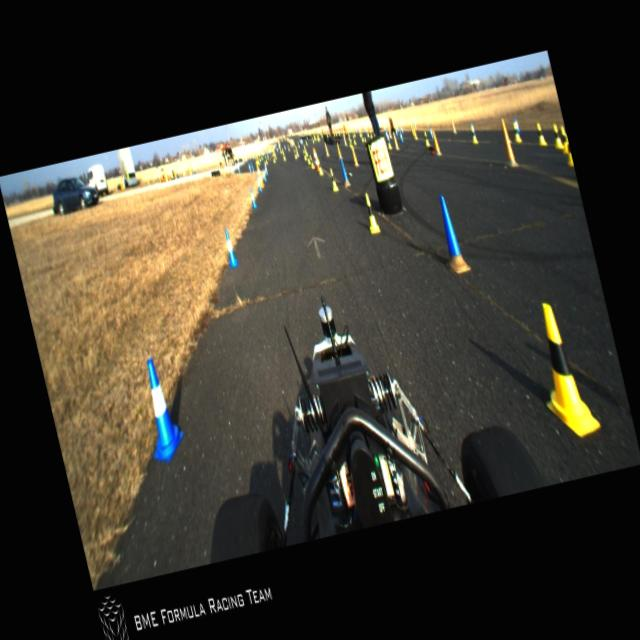blue_cone: (131, 354, 189, 466), (220, 227, 240, 268), (248, 186, 258, 210), (338, 160, 348, 180), (512, 115, 520, 134), (255, 175, 262, 192), (261, 167, 268, 183), (427, 125, 434, 140), (264, 160, 268, 177), (384, 128, 389, 141), (398, 130, 403, 142), (393, 126, 398, 136), (399, 125, 404, 134), (248, 162, 252, 173), (237, 163, 240, 172), (283, 144, 286, 150), (276, 146, 278, 152)
large_orange_cone: (254, 162, 266, 190), (312, 146, 320, 170)
yellow_cone: (524, 296, 602, 442), (362, 192, 381, 235), (561, 134, 574, 168), (558, 125, 570, 153), (550, 122, 562, 148), (534, 121, 546, 146), (328, 166, 338, 190), (510, 120, 520, 142), (468, 124, 478, 144), (316, 157, 324, 176), (422, 130, 430, 148), (385, 135, 393, 150), (308, 153, 315, 169), (348, 137, 354, 150), (292, 148, 298, 160), (302, 148, 307, 162), (363, 136, 368, 150), (263, 154, 268, 165), (359, 132, 364, 142), (352, 134, 356, 146), (282, 150, 286, 161), (365, 128, 369, 138), (258, 152, 262, 162), (253, 155, 257, 164), (272, 154, 276, 162), (368, 130, 372, 138), (259, 152, 263, 160), (296, 140, 300, 148), (352, 128, 356, 136), (256, 157, 260, 165), (278, 146, 282, 153), (348, 138, 351, 147), (287, 144, 290, 150), (304, 138, 307, 144), (311, 136, 314, 142)
